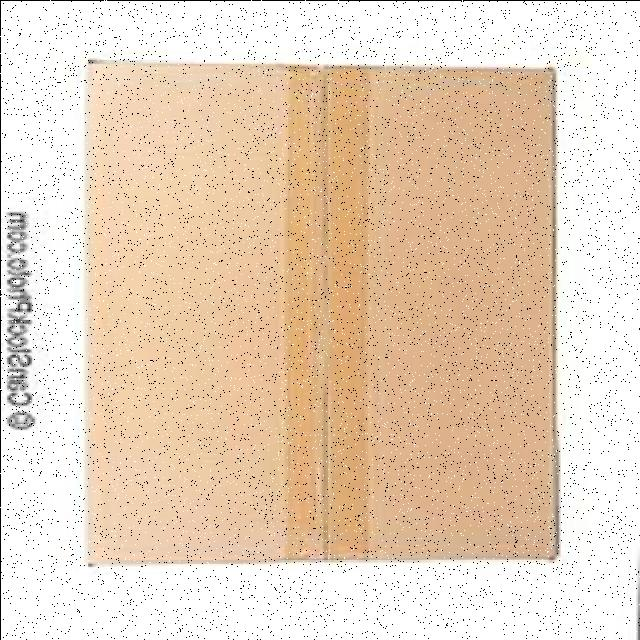normal: (80, 49, 566, 574)
